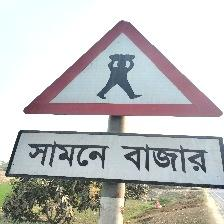Market-in-front: (7, 19, 222, 180)
